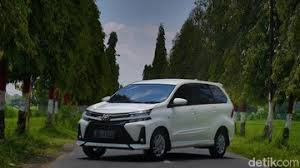mobil: (78, 79, 240, 161)
